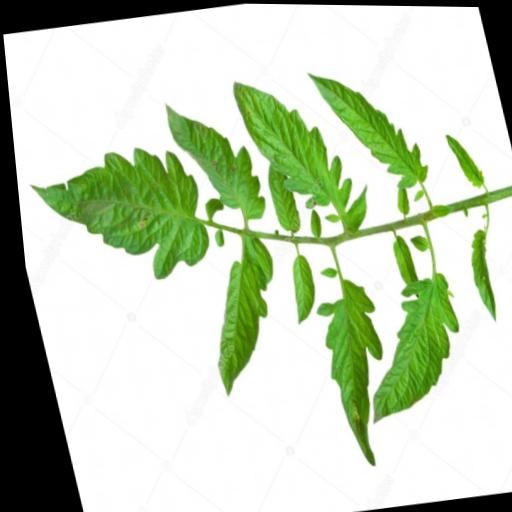Healthy: (333, 268, 471, 424), (183, 238, 295, 397), (303, 57, 429, 198), (277, 251, 317, 324), (259, 158, 297, 233)
Septoria: (14, 134, 218, 299), (226, 64, 372, 242), (156, 98, 272, 239)
